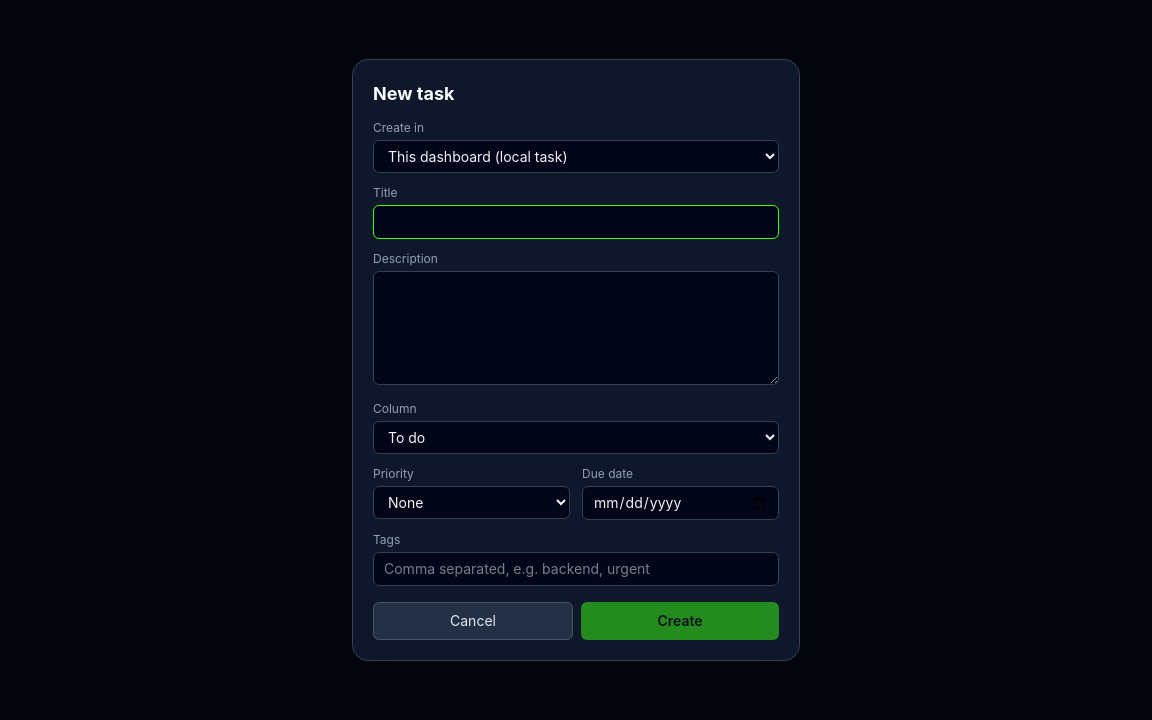
Test case: NewTaskModal in a tracker › links to the tracker when it asks for more fields
Step 1. Select "Work (Jira Cloud)" in the dropdown labelled "Create in" → (576, 156), box [373,140,779,173]
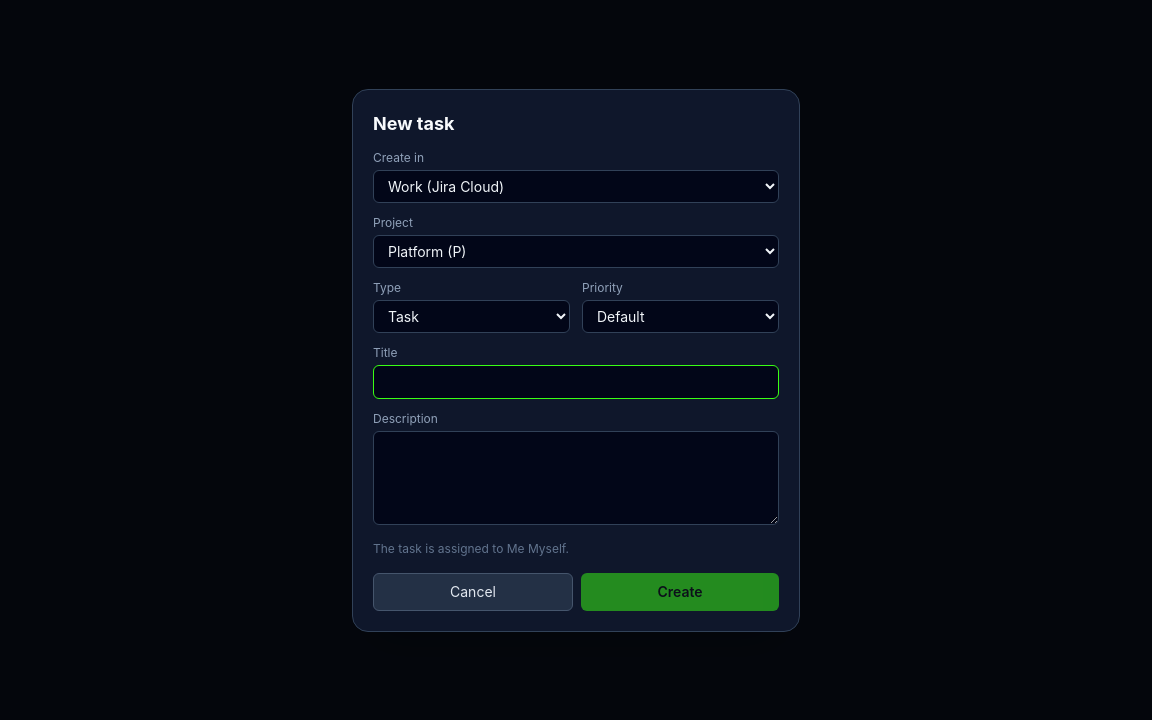
Step 2. Type "X" into the field labelled "Title" → (576, 382), box [373,364,779,398]
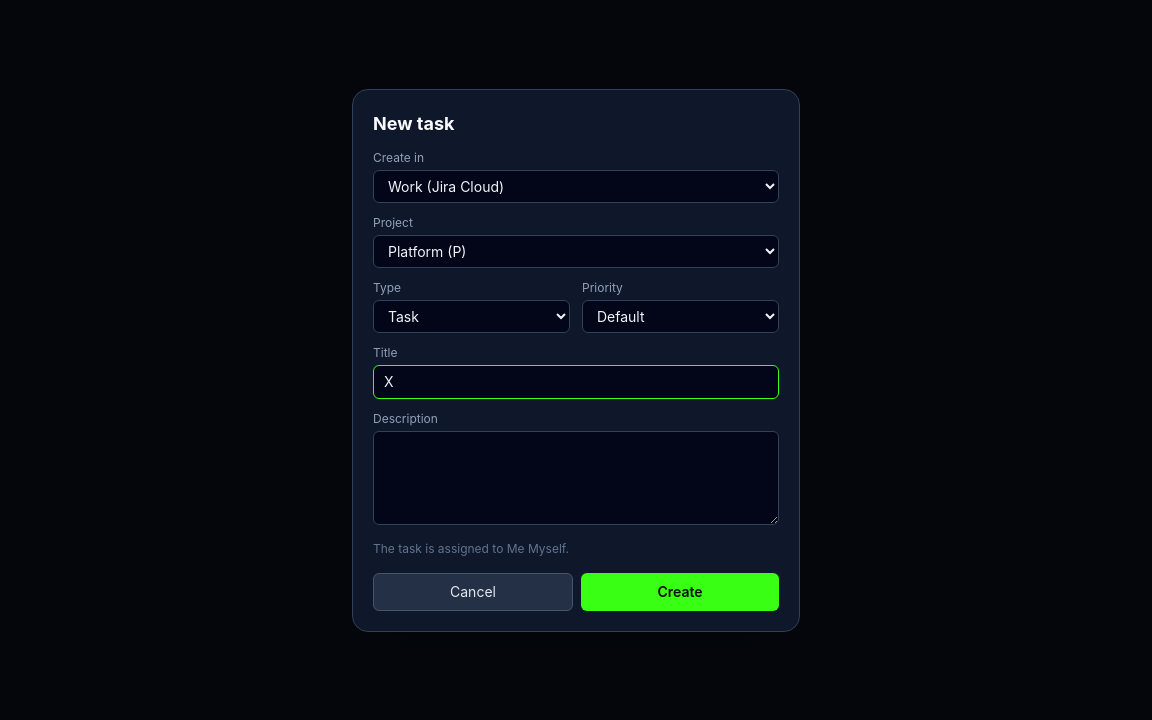
Step 3. Click the button "Create" → (680, 592), box [581,572,779,610]
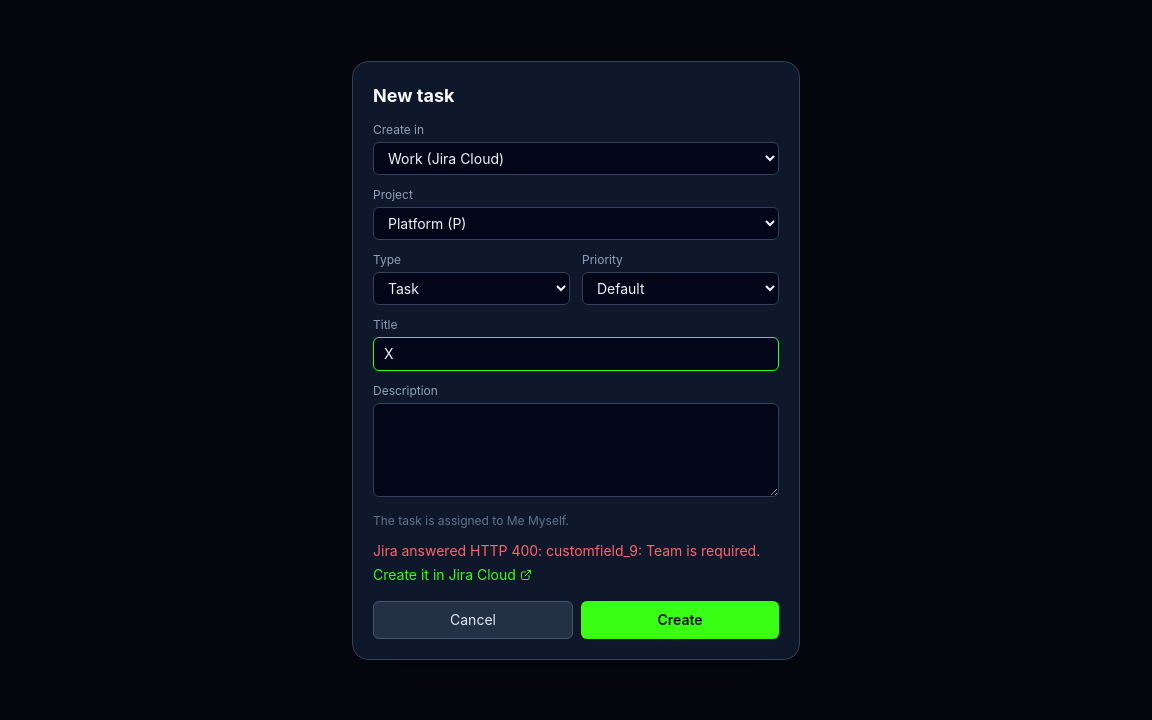
expect the message shows "Team is required": met, box [373,542,760,558]
